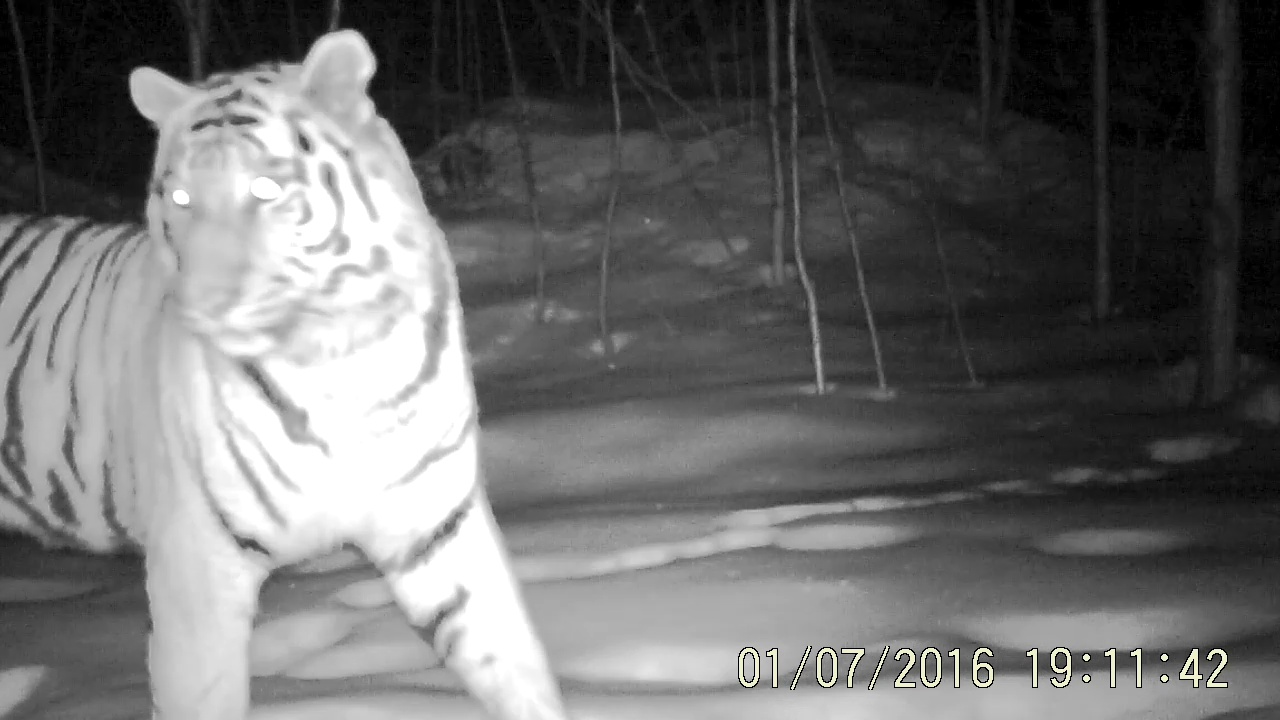Tiger: (4, 2, 618, 720)
